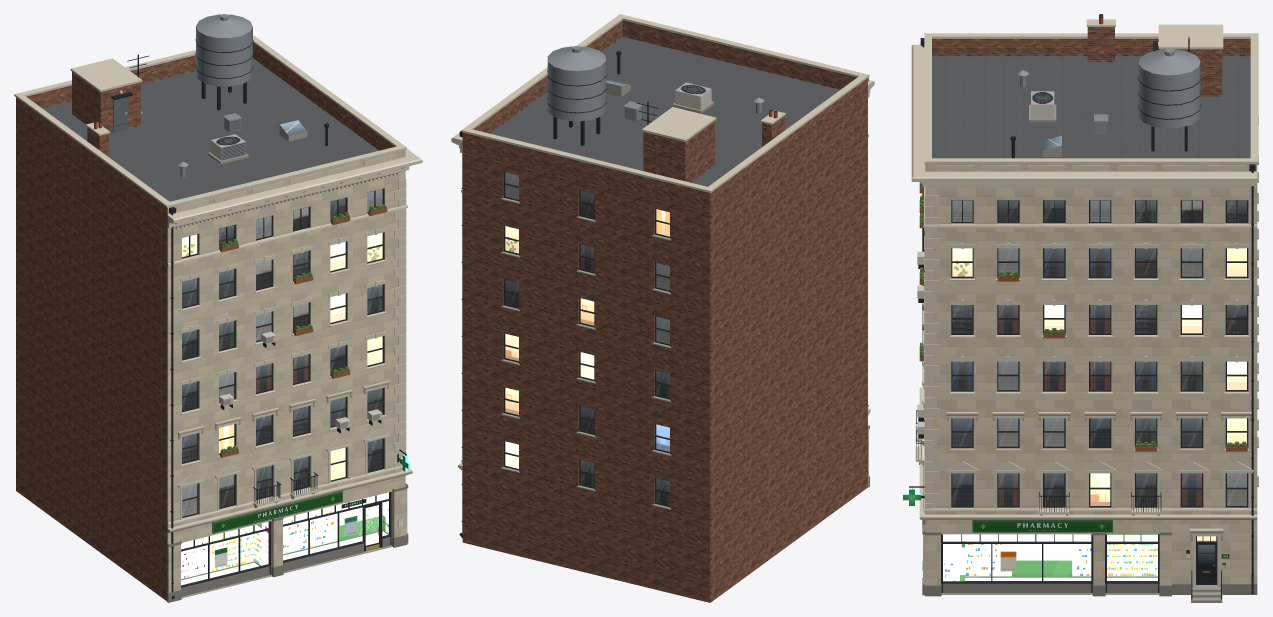
The model's file is CornerPharmacy.fbx.
3 renders of one model, left to right at view 1: azimuth 30°, elevation 25°; view 2: azimuth 150°, elevation 25°; view 3: azimuth 270°, elevation 25°, orthographic. The views are drawn at different scales.
Parts seen in each view (by area): view 1: CornerPharmacy_Mesh; view 2: CornerPharmacy_Mesh; view 3: CornerPharmacy_Mesh.
Boxes of the visible parts, x1,y1,x2,y2 form: CornerPharmacy_Mesh: (14, 14, 422, 602); CornerPharmacy_Mesh: (451, 14, 874, 602); CornerPharmacy_Mesh: (903, 14, 1258, 602).
Bounding box in the file's own units: 16.42 × 28.65 × 18.21.
